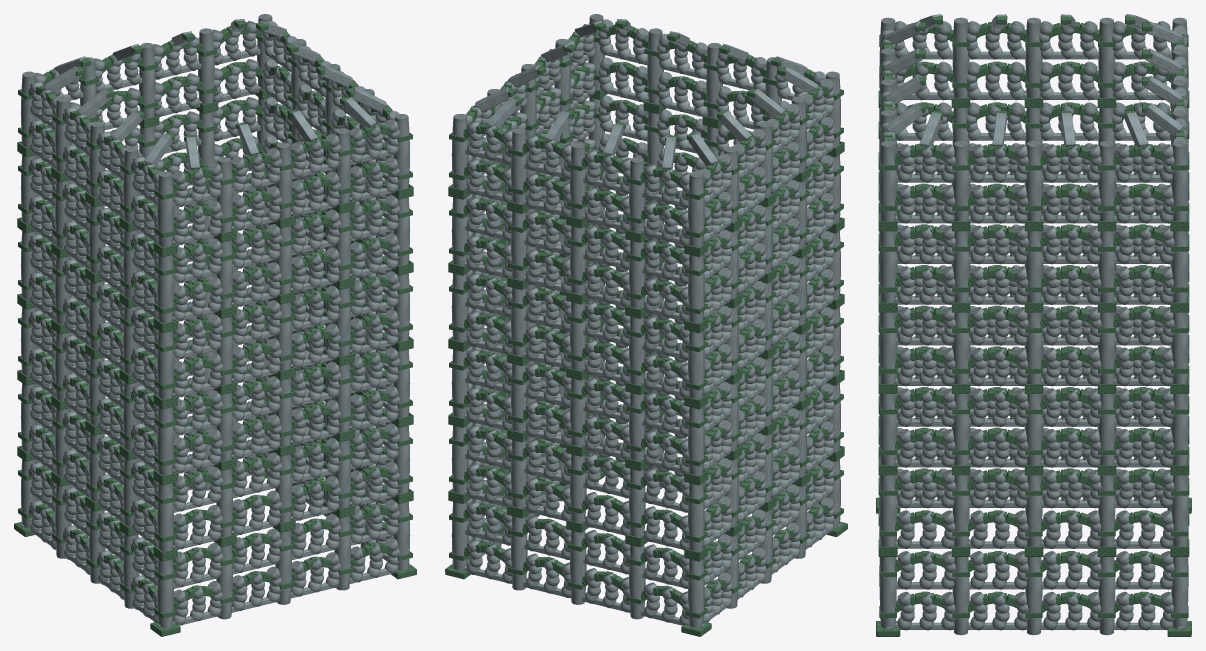
3 renders of one model, left to right at view 1: azimuth 30°, elevation 25°; view 2: azimuth 150°, elevation 25°; view 3: azimuth 270°, elevation 25°, orthographic. The views are drawn at different scales.
Visible parts, largest first — view 1: Tier 5 side 0 post 0, Tier 5 side 2 post 1, Tier 0 side 0 post 0, Tier 1 side 0 post 0, Tier 2 side 0 post 0, Tier 3 side 0 post 0, Tier 4 side 0 post 0, Tier 5 side 2 post 2, Tier 5 side 0 post 3, Tier 5 side 0 post 2, Tier 5 side 0 post 1, Tier 5 side 1 post 0 (+45 smaller); view 2: Tier 5 side 3 post 0, Tier 5 side 2 post 0, Tier 5 side 2 post 1, Tier 5 side 2 post 2, Tier 5 side 2 post 3, Tier 0 side 3 post 0, Tier 1 side 3 post 0, Tier 2 side 3 post 0, Tier 3 side 3 post 0, Tier 4 side 3 post 0, Tier 0 side 2 post 2, Tier 0 side 2 post 1 (+27 smaller); view 3: Tier 5 side 1 post 0, Tier 5 side 2 post 0, Tier 5 side 1 post 3, Tier 5 side 1 post 2, Tier 5 side 1 post 1, Tier 5 side 3 post 3, Tier 5 side 3 post 1, Tier 5 side 3 post 2, Tier 1 side 1 post 0, Tier 4 side 1 post 0, Tier 2 side 1 post 0, Tier 3 side 1 post 0 (+32 smaller).
Boxes of the visible parts, left/top/right/bottom form: Tier 5 side 0 post 0: left=157, top=171, right=173, bottom=247; Tier 5 side 2 post 1: left=198, top=28, right=214, bottom=104; Tier 0 side 0 post 0: left=157, top=559, right=173, bottom=627; Tier 1 side 0 post 0: left=157, top=483, right=173, bottom=551; Tier 2 side 0 post 0: left=157, top=407, right=173, bottom=475; Tier 3 side 0 post 0: left=157, top=331, right=173, bottom=399; Tier 4 side 0 post 0: left=157, top=255, right=173, bottom=323; Tier 5 side 2 post 2: left=139, top=43, right=155, bottom=118; Tier 5 side 0 post 3: left=334, top=128, right=350, bottom=204; Tier 5 side 0 post 2: left=275, top=142, right=291, bottom=218; Tier 5 side 0 post 1: left=216, top=157, right=232, bottom=232; Tier 5 side 1 post 0: left=393, top=114, right=410, bottom=189; Tier 5 side 3 post 0: left=688, top=171, right=704, bottom=247; Tier 5 side 2 post 0: left=451, top=114, right=468, bottom=189; Tier 5 side 2 post 1: left=511, top=128, right=527, bottom=204; Tier 5 side 2 post 2: left=570, top=142, right=586, bottom=218; Tier 5 side 2 post 3: left=629, top=157, right=645, bottom=232; Tier 0 side 3 post 0: left=688, top=559, right=704, bottom=627; Tier 1 side 3 post 0: left=688, top=483, right=704, bottom=551; Tier 2 side 3 post 0: left=688, top=407, right=704, bottom=475; Tier 3 side 3 post 0: left=688, top=331, right=704, bottom=399; Tier 4 side 3 post 0: left=688, top=255, right=704, bottom=323; Tier 0 side 2 post 2: left=570, top=530, right=586, bottom=604; Tier 0 side 2 post 1: left=511, top=516, right=527, bottom=590; Tier 5 side 1 post 0: left=879, top=141, right=896, bottom=221; Tier 5 side 2 post 0: left=1171, top=141, right=1188, bottom=221; Tier 5 side 1 post 3: left=1098, top=141, right=1115, bottom=221; Tier 5 side 1 post 2: left=1025, top=141, right=1042, bottom=221; Tier 5 side 1 post 1: left=952, top=141, right=969, bottom=221; Tier 5 side 3 post 3: left=952, top=17, right=969, bottom=97; Tier 5 side 3 post 1: left=1098, top=17, right=1115, bottom=97; Tier 5 side 3 post 2: left=1025, top=17, right=1042, bottom=97; Tier 1 side 1 post 0: left=879, top=475, right=896, bottom=546; Tier 4 side 1 post 0: left=879, top=231, right=896, bottom=302; Tier 2 side 1 post 0: left=879, top=394, right=896, bottom=465; Tier 3 side 1 post 0: left=879, top=312, right=896, bottom=383.
Bounding box in the file's own units: 1.95 × 3.45 × 1.95.
Materials: 2 (2 with a texture image).
